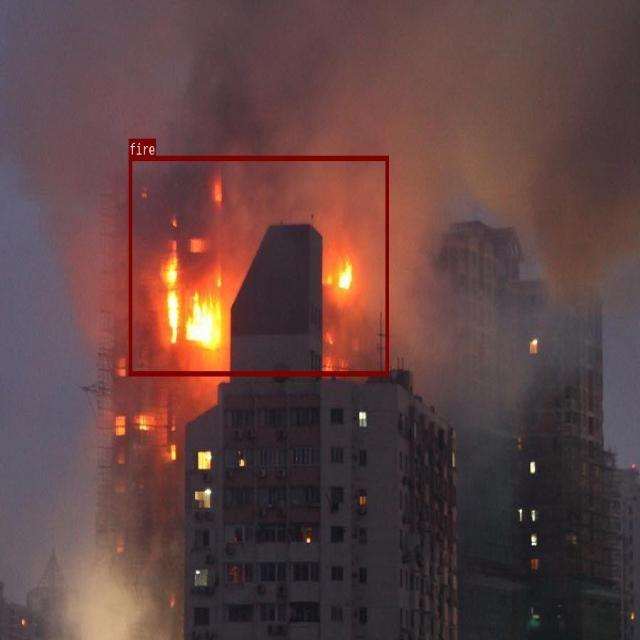fire: (129, 155, 388, 375)
